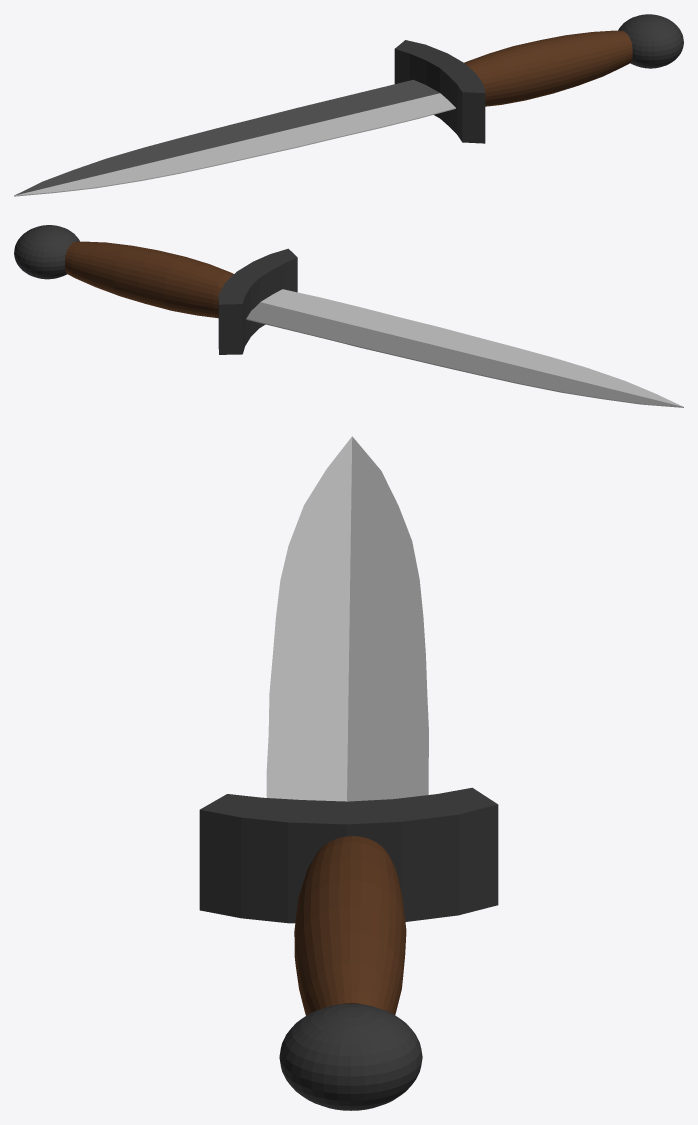
The model's file is Dagger.fbx.
3 renders of one model, top to bottom at view 1: azimuth 30°, elevation 25°; view 2: azimuth 150°, elevation 25°; view 3: azimuth 270°, elevation 25°, orthographic. The views are drawn at different scales.
Visible parts, largest first — view 1: Cube.001, Cylinder, Cube, Sphere; view 2: Cube.001, Cylinder, Cube, Sphere; view 3: Cube.001, Cube, Cylinder, Sphere.
Part boxes in pixels (x1=…): Cube.001: x1=14, y1=79, x2=455, y2=196; Cylinder: x1=464, y1=30, x2=632, y2=106; Cube: x1=394, y1=40, x2=485, y2=143; Sphere: x1=618, y1=14, x2=683, y2=68; Cube.001: x1=246, y1=289, x2=683, y2=407; Cylinder: x1=65, y1=241, x2=233, y2=318; Cube: x1=218, y1=248, x2=297, y2=354; Sphere: x1=14, y1=225, x2=79, y2=279; Cube.001: x1=266, y1=436, x2=428, y2=801; Cube: x1=199, y1=787, x2=498, y2=923; Cylinder: x1=294, y1=836, x2=406, y2=1015; Sphere: x1=279, y1=1003, x2=422, y2=1110.
Bounding box in the file's own units: 8.52 × 0.6219 × 1.66.
